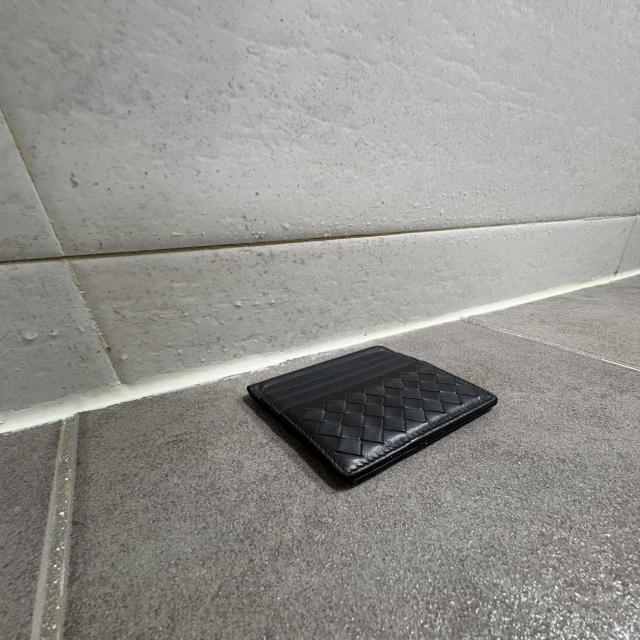wallet: (243, 343, 501, 494)
